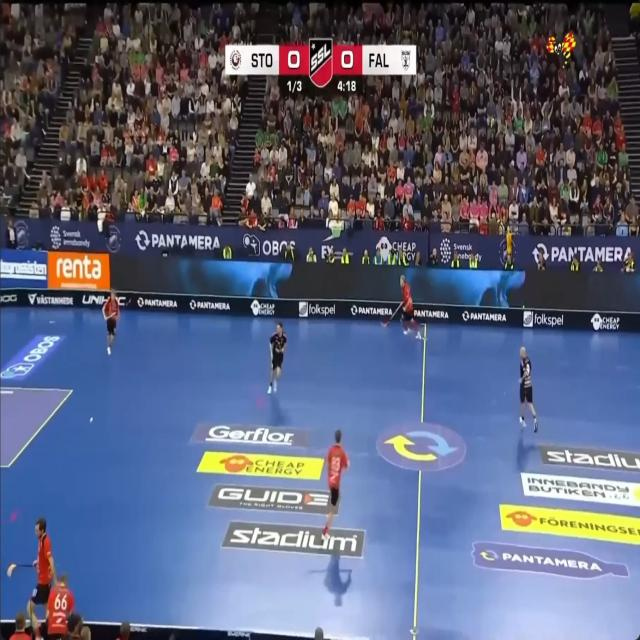Balls: (90, 417, 93, 423)
player: (27, 517, 56, 632), (322, 429, 348, 536), (47, 573, 74, 639), (520, 346, 537, 431), (400, 274, 422, 338), (267, 323, 286, 393), (103, 290, 119, 355)
stick: (381, 303, 403, 325), (7, 563, 32, 577), (103, 312, 117, 319)
